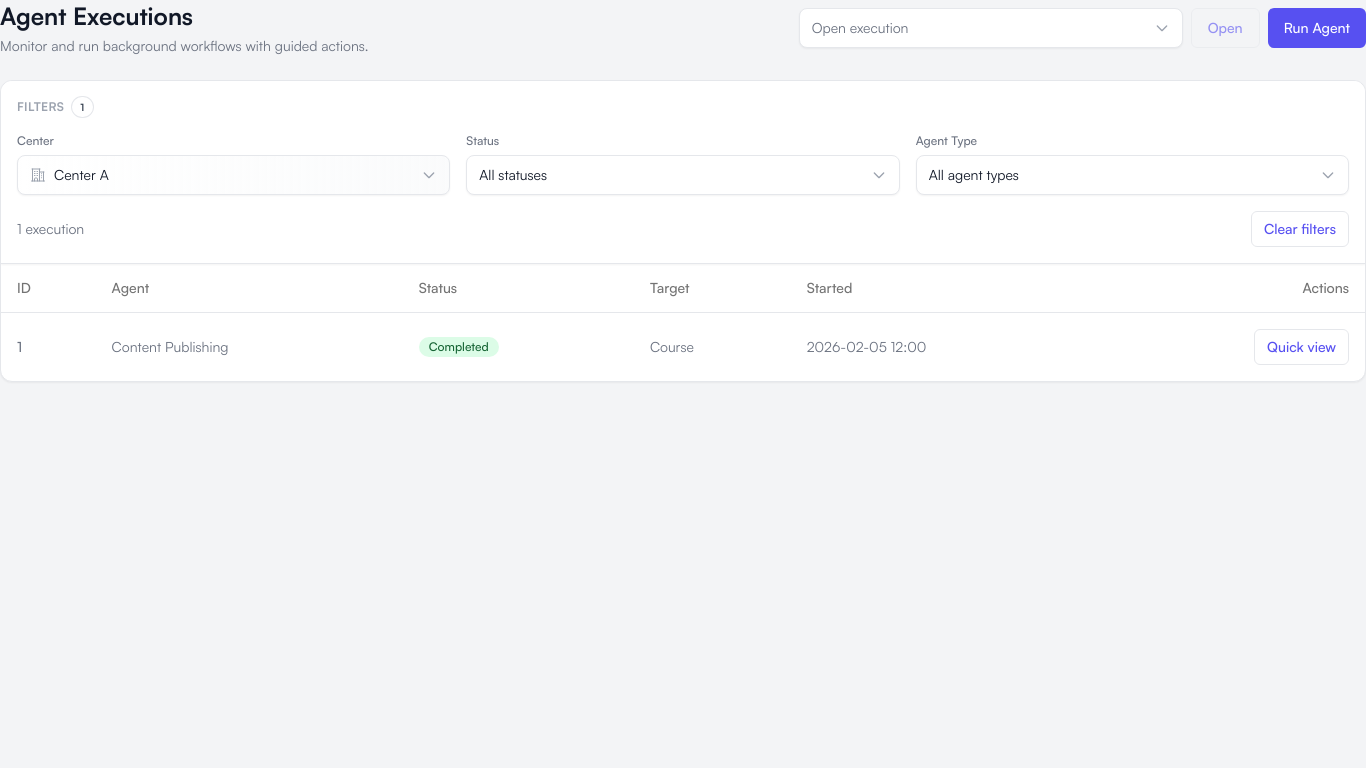
Test case: agents components (integration with MSW) › renders executions list and can execute a new agent
The width and height of the screenshot is (1366, 768).
Expected: the text "Course" is shown, left=634, top=312, right=791, bottom=380
Click the button "Run Agent" at (1317,28), box left=1268, top=8, right=1365, bottom=48
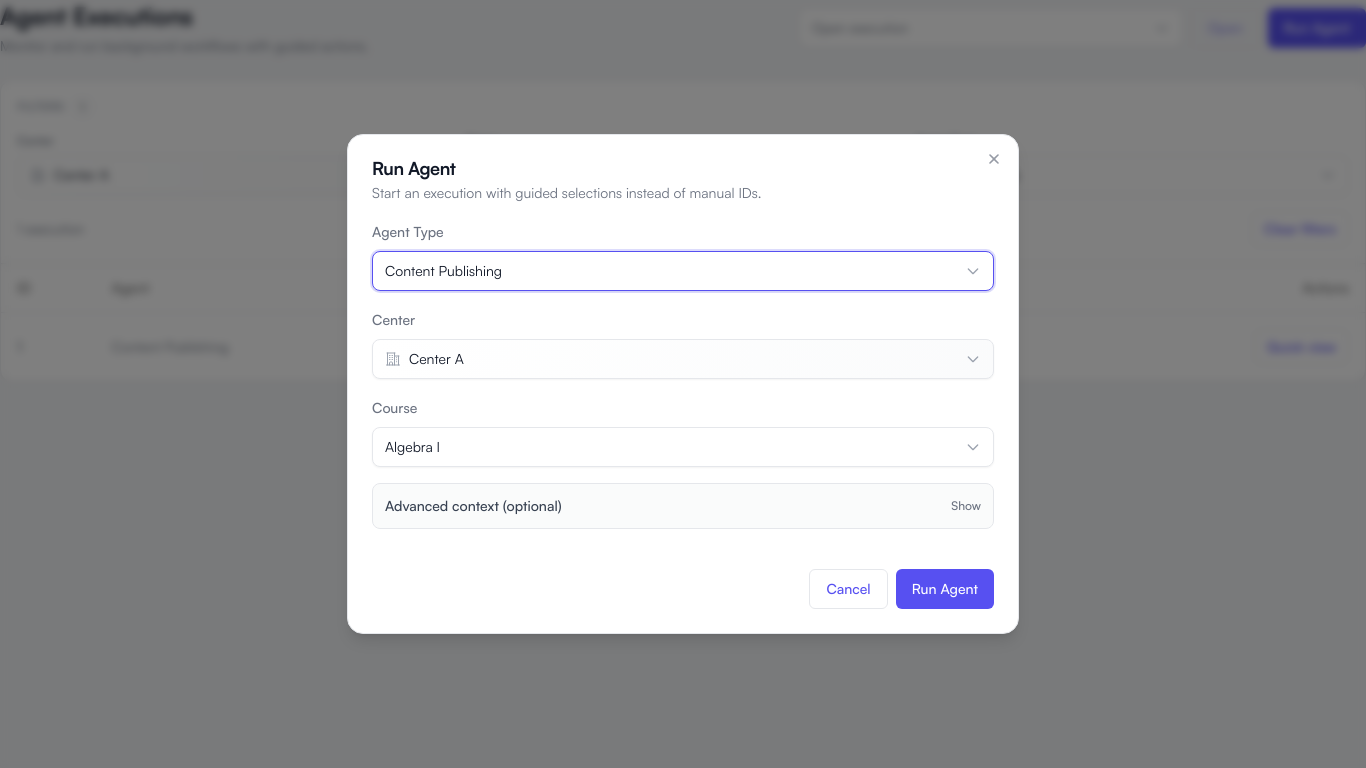
Expected: the text "Algebra I" is shown, left=385, top=437, right=440, bottom=457
Click the button "Run Agent" at (945,589), box left=896, top=569, right=994, bottom=609
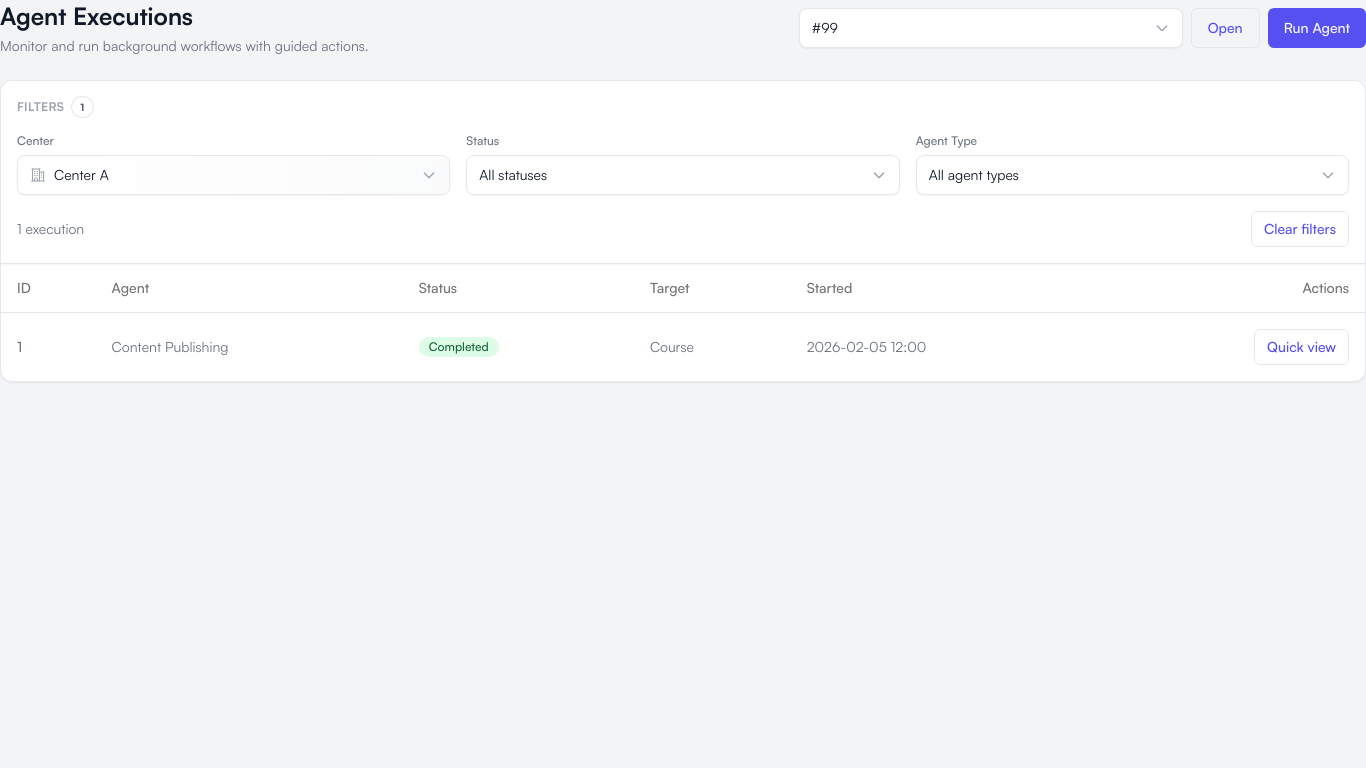
Expected: the dialog is gone
Expected: the text "#99" is shown, left=812, top=18, right=838, bottom=38
